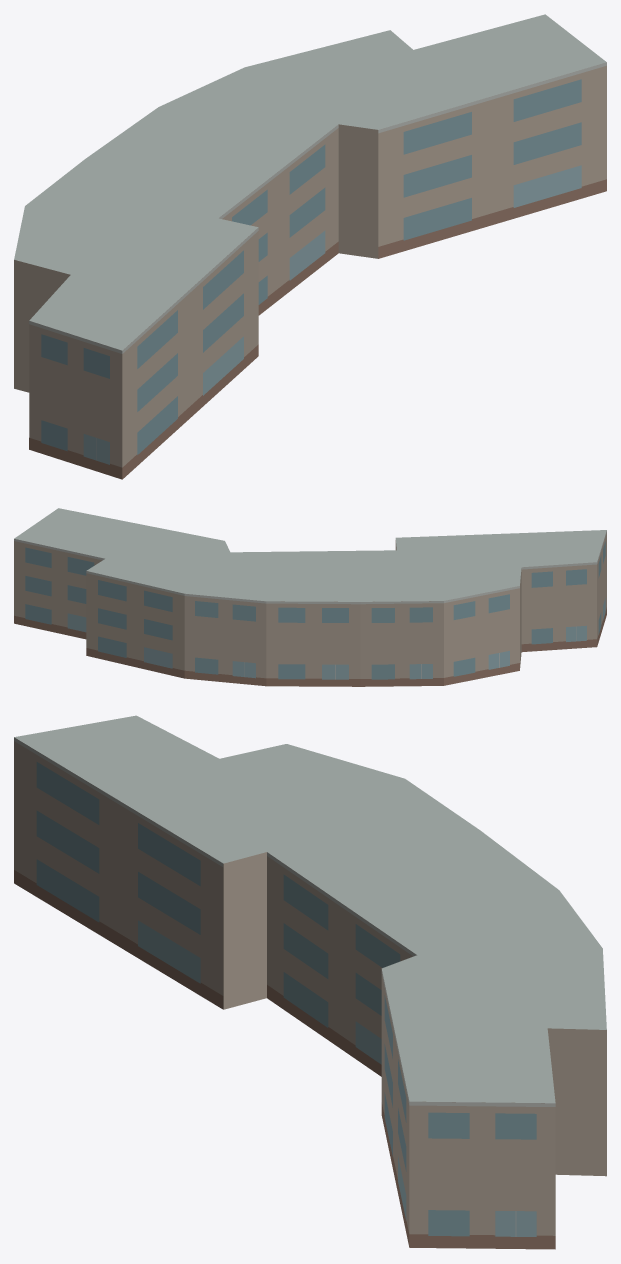
File: survey-upis-32473222.glb
The picture shows the model from 3 angles, top to bottom: view 1: azimuth 30°, elevation 25°; view 2: azimuth 150°, elevation 25°; view 3: azimuth 270°, elevation 25°; orthographic projection. The views are drawn at different scales.
Parts seen in each view (by area): view 1: survey-upis-32473222.tmp; view 2: survey-upis-32473222.tmp; view 3: survey-upis-32473222.tmp.
Part boxes in pixels (left/top/right/bottom): survey-upis-32473222.tmp: left=14, top=14, right=606, bottom=479; survey-upis-32473222.tmp: left=14, top=508, right=606, bottom=686; survey-upis-32473222.tmp: left=14, top=715, right=606, bottom=1249.
Bounding box in the file's own units: 52.06 × 9.15 × 33.64.
